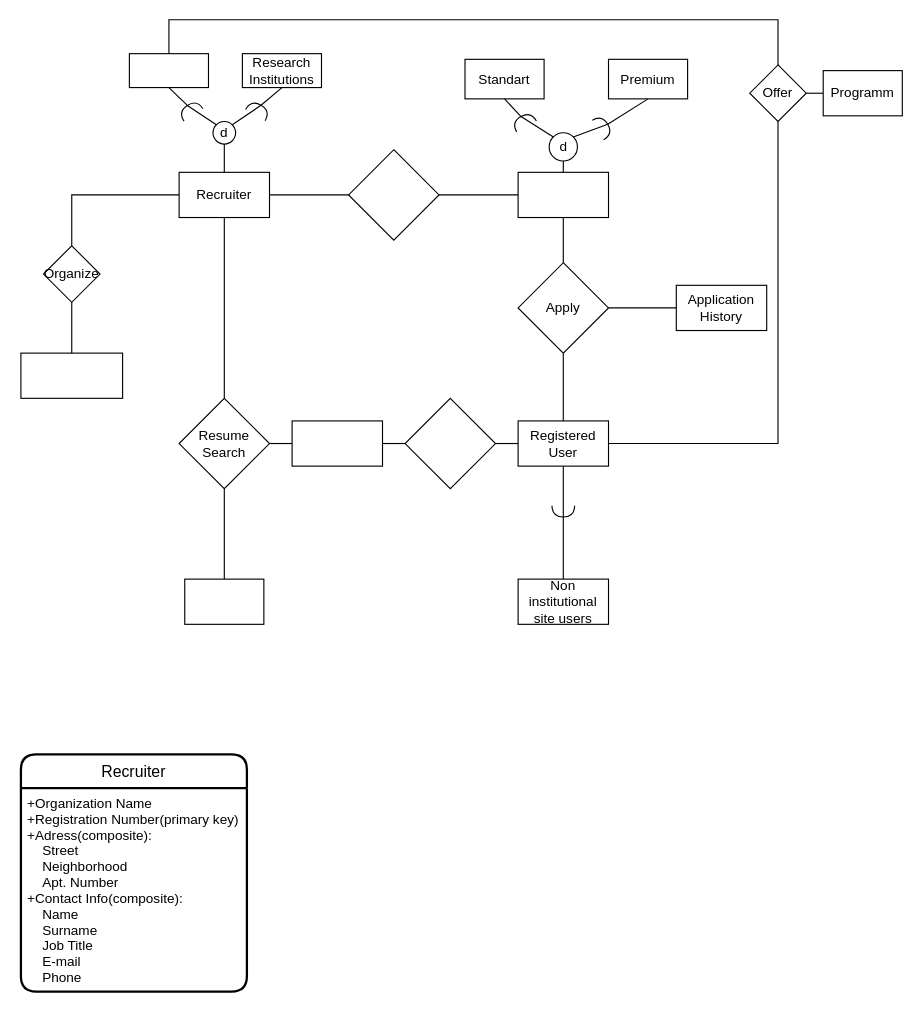
The diagram is 922 pixels wide and 1012 high, and some of its shapes have lost their labels. The centre of each missing label's shape, as x and y in pixels:
"Academic Activities" goes at (x=71, y=375).
"Advert" goes at (x=563, y=194).
"Evaluated Resumes" goes at (x=224, y=601).
"Load/Update Resume" goes at (x=450, y=443).
"Post" goes at (x=393, y=194).
"Resumes" goes at (x=337, y=443).
"Universities" goes at (x=168, y=70).
